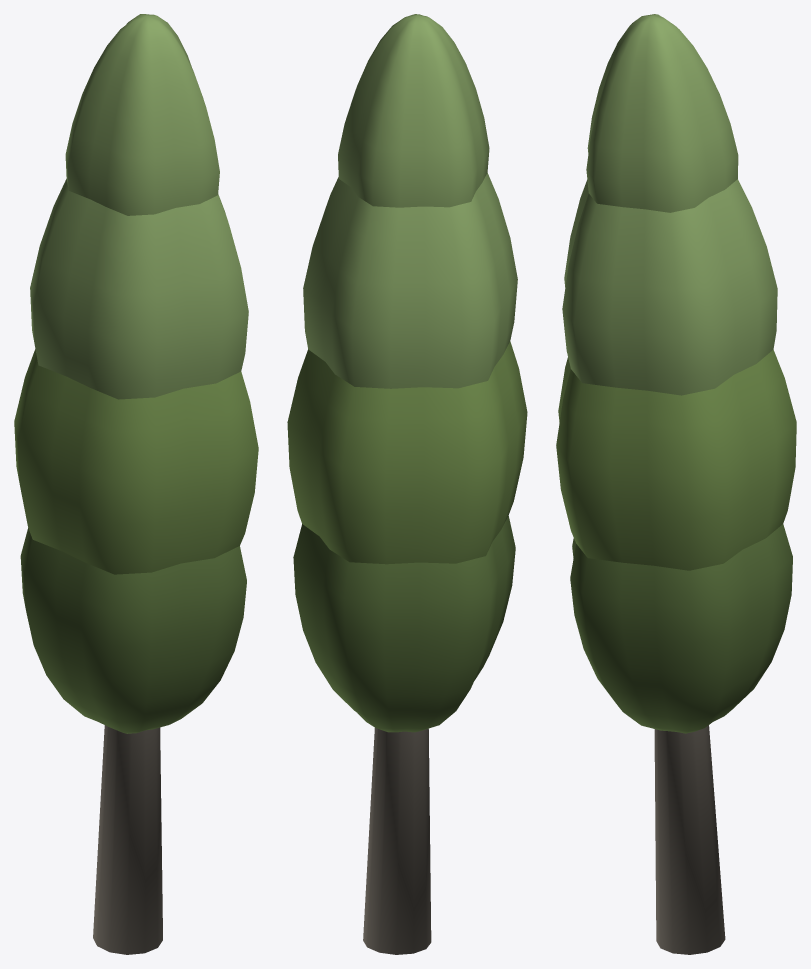
The model's file is poplar-tree.glb.
3 views of the same model, side by side, from view 1: azimuth 30°, elevation 25°; view 2: azimuth 150°, elevation 25°; view 3: azimuth 270°, elevation 25° (orthographic). The views are drawn at different scales.
Parts seen in each view (by area): view 1: Lobe_MidLower, Lobe_MidUpper, Lobe_Bottom, Lobe_Tip, Trunk; view 2: Lobe_MidLower, Lobe_MidUpper, Lobe_Bottom, Lobe_Tip, Trunk; view 3: Lobe_MidLower, Lobe_MidUpper, Lobe_Bottom, Lobe_Tip, Trunk.
Part boxes in pixels (left/top/right/bottom): Lobe_MidLower: left=14, top=349, right=258, bottom=574; Lobe_MidUpper: left=30, top=179, right=248, bottom=399; Lobe_Bottom: left=20, top=528, right=246, bottom=733; Lobe_Tip: left=65, top=14, right=219, bottom=215; Trunk: left=93, top=725, right=162, bottom=954; Lobe_MidLower: left=287, top=341, right=527, bottom=564; Lobe_MidUpper: left=303, top=173, right=517, bottom=388; Lobe_Bottom: left=293, top=516, right=515, bottom=732; Lobe_Tip: left=338, top=14, right=489, bottom=207; Trunk: left=363, top=728, right=431, bottom=954; Lobe_MidLower: left=556, top=350, right=796, bottom=570; Lobe_MidUpper: left=562, top=179, right=777, bottom=395; Lobe_Bottom: left=570, top=524, right=792, bottom=733; Lobe_Tip: left=586, top=14, right=738, bottom=212; Trunk: left=654, top=725, right=725, bottom=954.
Bounding box in the file's own units: 2 × 8.26 × 1.95.
